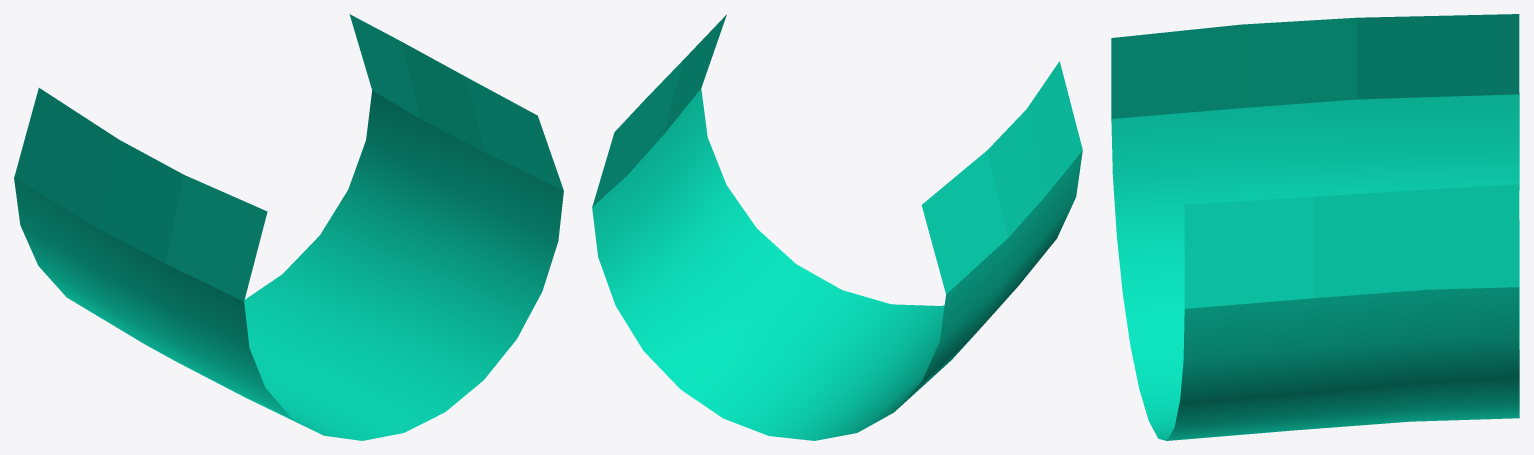
The model's file is Pipe_Collider_Turn_C.fbx.
3 renders of one model, left to right at view 1: azimuth 30°, elevation 25°; view 2: azimuth 150°, elevation 25°; view 3: azimuth 270°, elevation 25°, orthographic. The views are drawn at different scales.
Visible parts, largest first — view 1: Pipe_Collider_Turn_C; view 2: Pipe_Collider_Turn_C; view 3: Pipe_Collider_Turn_C.
Boxes of the visible parts, x1,y1,x2,y2 form: Pipe_Collider_Turn_C: (14,14,563,440); Pipe_Collider_Turn_C: (592,14,1082,440); Pipe_Collider_Turn_C: (1111,14,1519,440).
Bounding box in the file's own units: 3.79 × 2.47 × 3.03.
